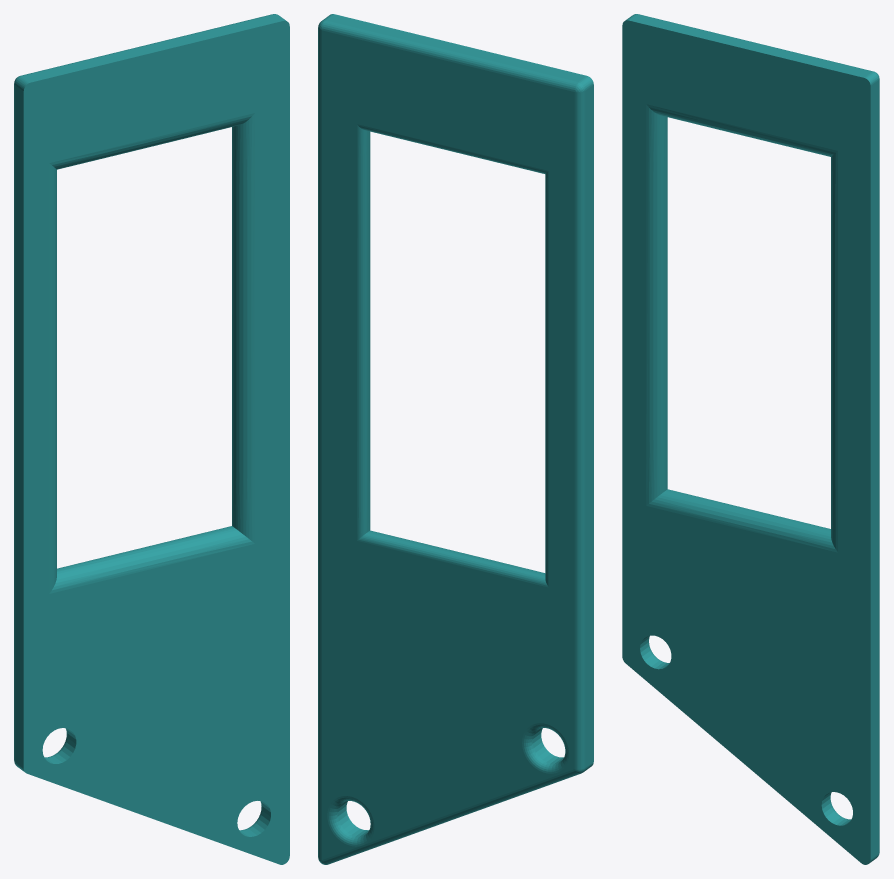
File: cover-3dp-cutout.glb
3 renders of one model, left to right at view 1: azimuth 30°, elevation 25°; view 2: azimuth 150°, elevation 25°; view 3: azimuth 330°, elevation 25°, orthographic. The views are drawn at different scales.
Size of the model in its own units: 0.0197 by 0.0598 by 0.0016.
